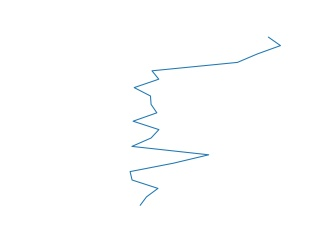crevasseRiverChannelBar: (124, 35, 287, 210)
